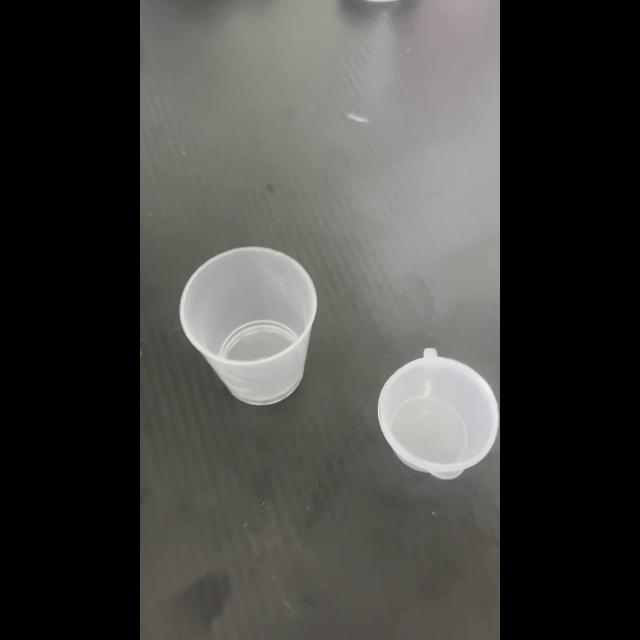clean: (185, 244, 311, 398), (380, 360, 500, 470)
